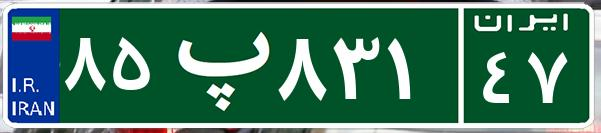1: (385, 28, 445, 110)
3: (330, 28, 385, 110)
4: (475, 38, 525, 113)
5: (110, 28, 158, 105)
7: (525, 38, 570, 115)
8: (273, 28, 330, 110), (57, 26, 110, 107)
پ: (158, 15, 273, 115)
